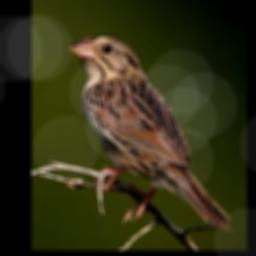Sparrow: (67, 32, 229, 230)
